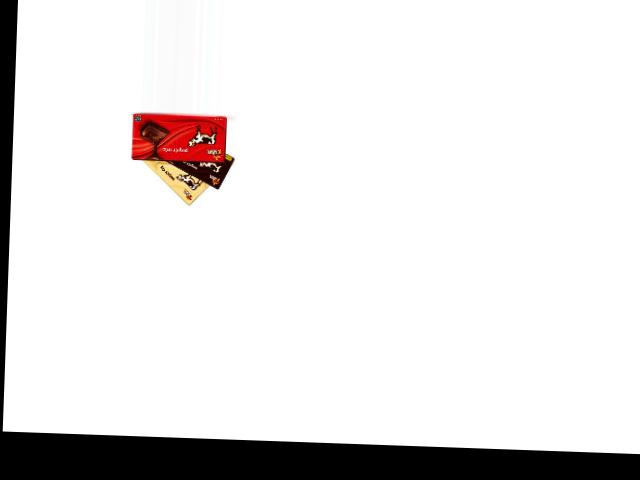chocolate: (132, 151, 221, 207)
